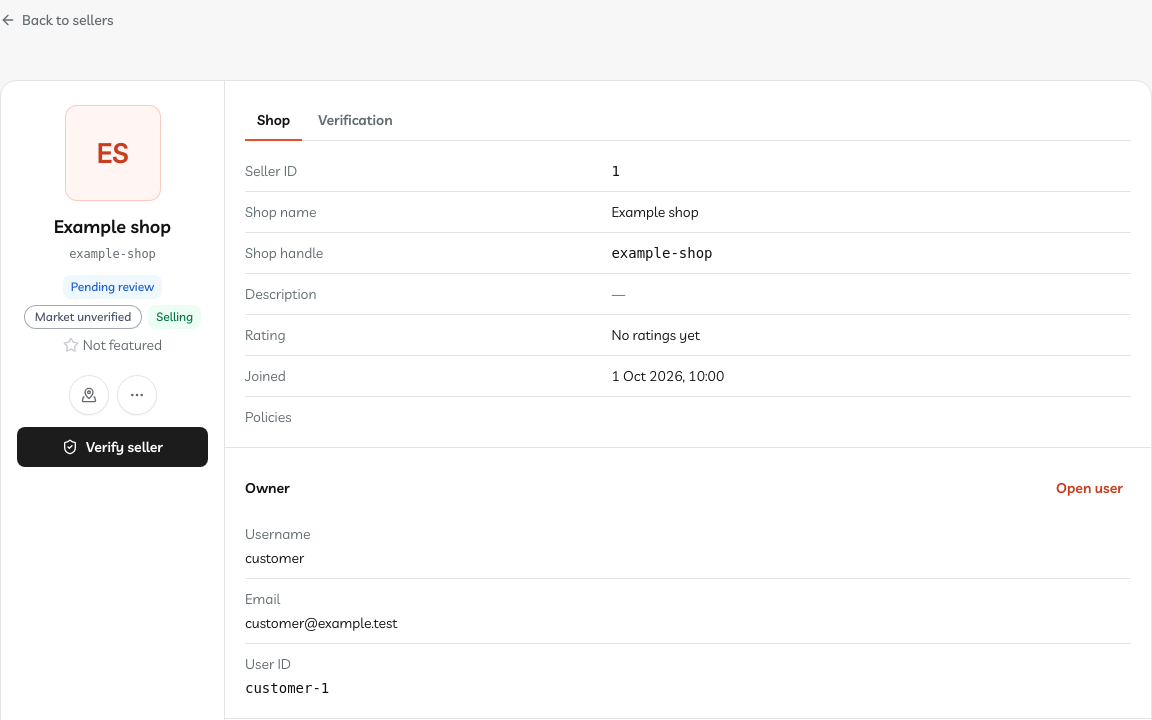
Scenario: detail permissions › requires a rejection reason then displays the returned seller status
Click the button named "More shop actions".
click(136, 395)  # box [116,375,156,415]
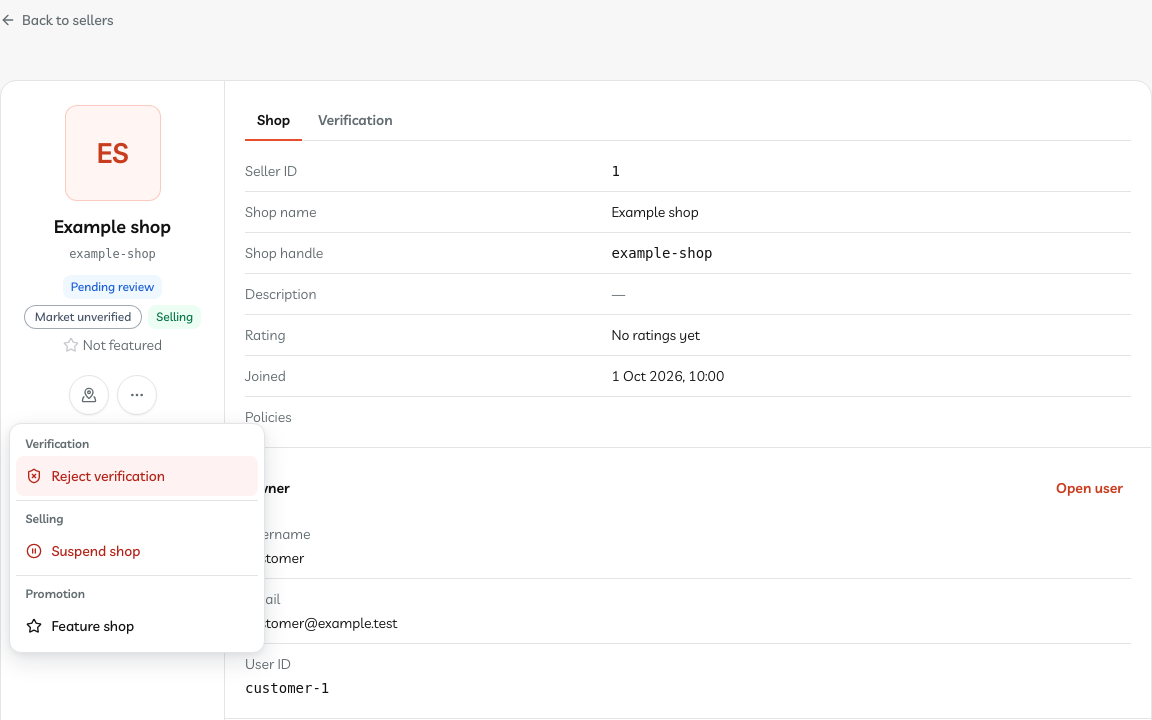
Click the menu item "Reject verification".
click(136, 476)  # box [16,456,258,496]
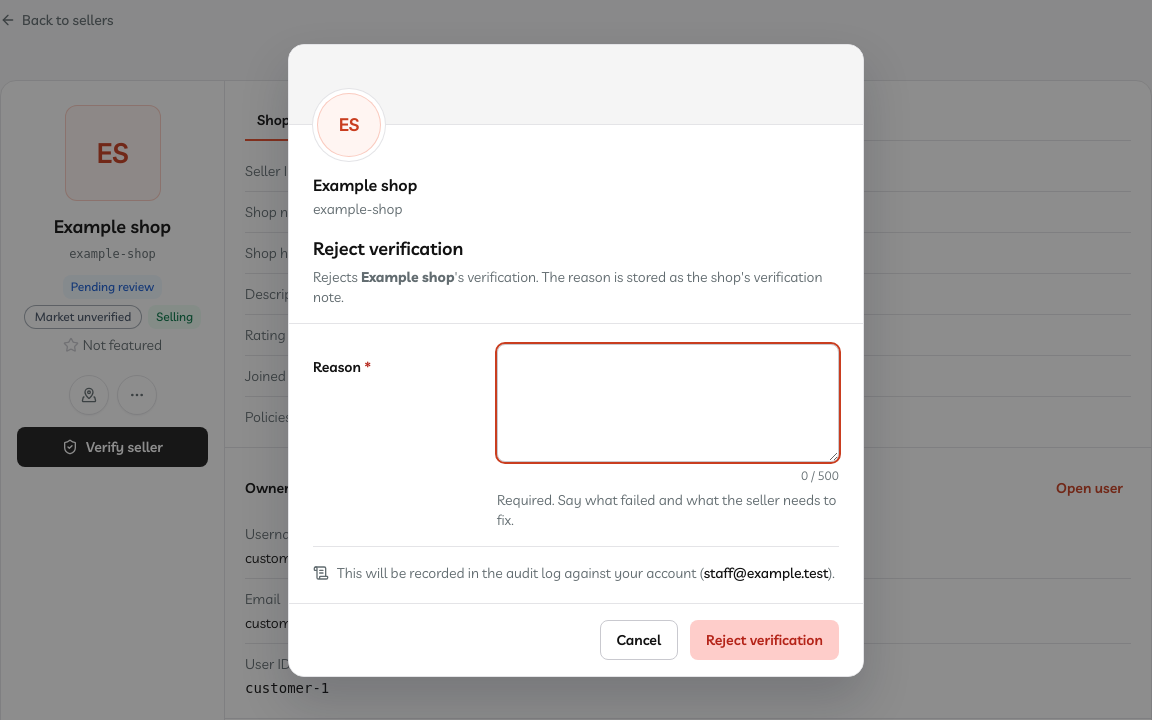
expect the button "Reject verification" is disabled: met, box [690,620,839,660]
Type "Missing documents" into the text box.
click(668, 402); type("Missing documents")  # box [497,344,839,462]
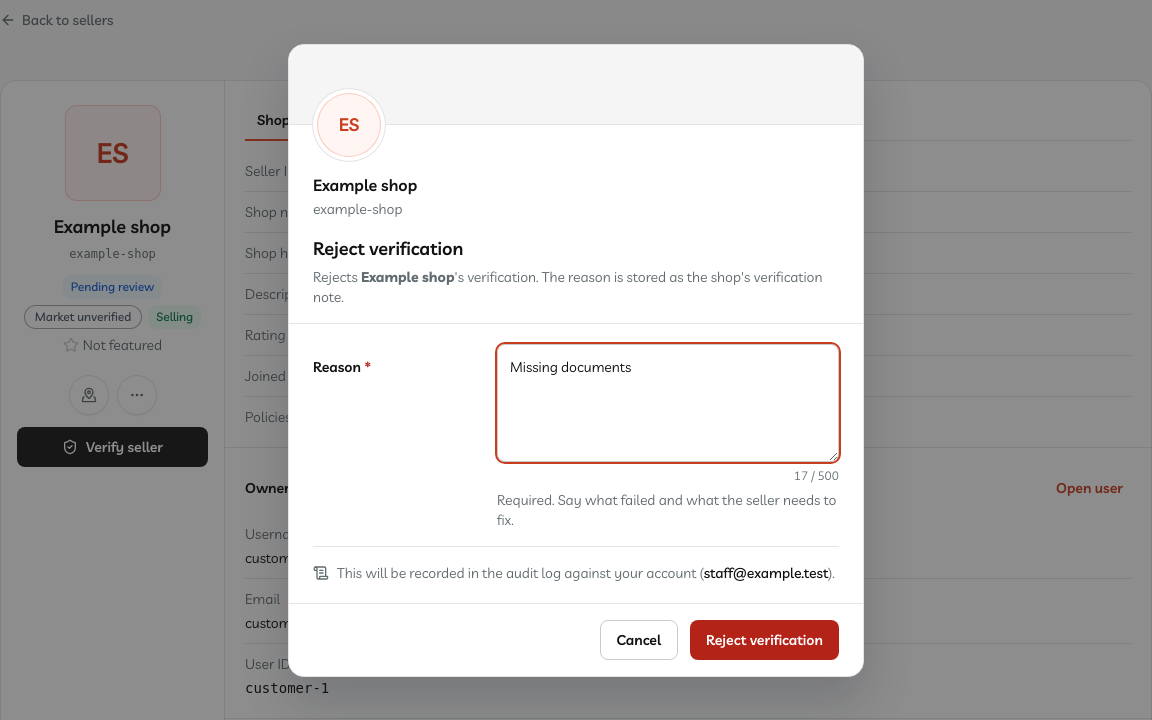
Click the button "Reject verification".
click(765, 640)  # box [690,620,839,660]
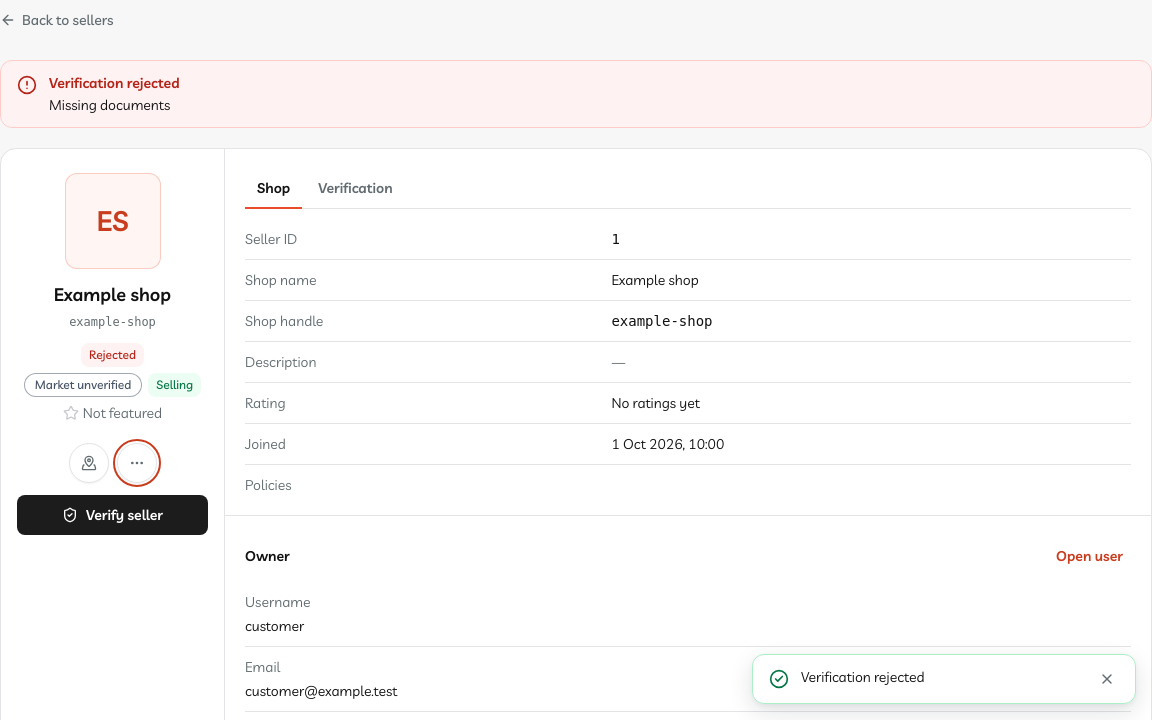
expect the dialog is gone: met
expect the text "Verification rejected" below "Back to sellers" is shown: met, box [49,74,180,92]
expect the text "Missing documents" is shown: met, box [49,96,170,114]
